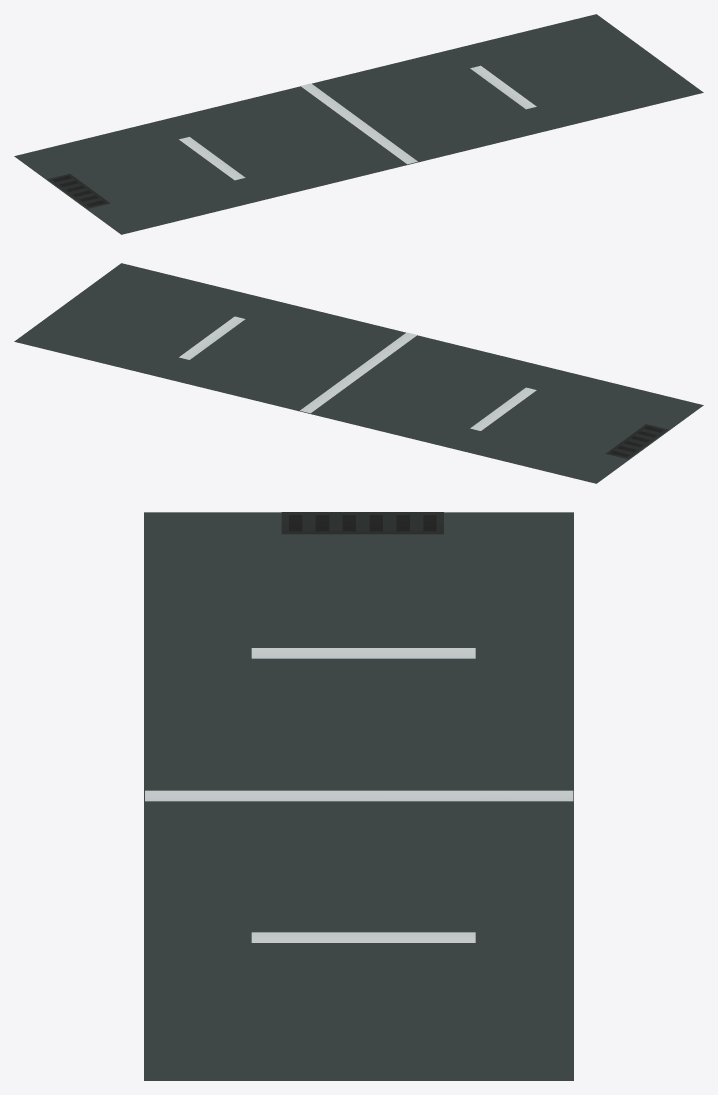
File: Road_2_206.fbx
3 renders of one model, top to bottom at view 1: azimuth 30°, elevation 25°; view 2: azimuth 150°, elevation 25°; view 3: azimuth 270°, elevation 25°, orthographic. The views are drawn at different scales.
Visible parts, largest first — view 1: Road_2_206; view 2: Road_2_206; view 3: Road_2_206.
Boxes of the visible parts, x1=… form: Road_2_206: x1=14, y1=14, x2=703, y2=234; Road_2_206: x1=14, y1=263, x2=703, y2=483; Road_2_206: x1=144, y1=512, x2=573, y2=1080.
Size of the model in its own units: 1800 by 1.66 by 575.
